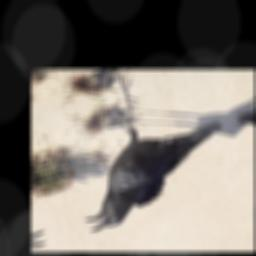Crow: (52, 77, 244, 234)
